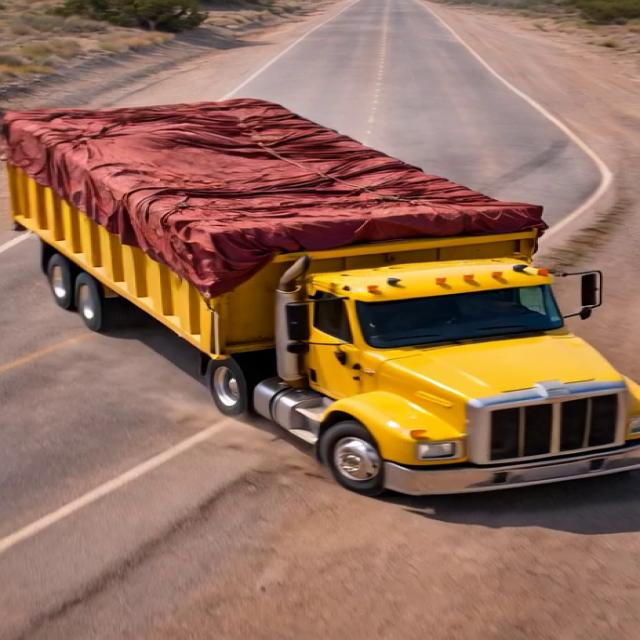trailer: (24, 90, 529, 251)
truck: (6, 61, 640, 498)
